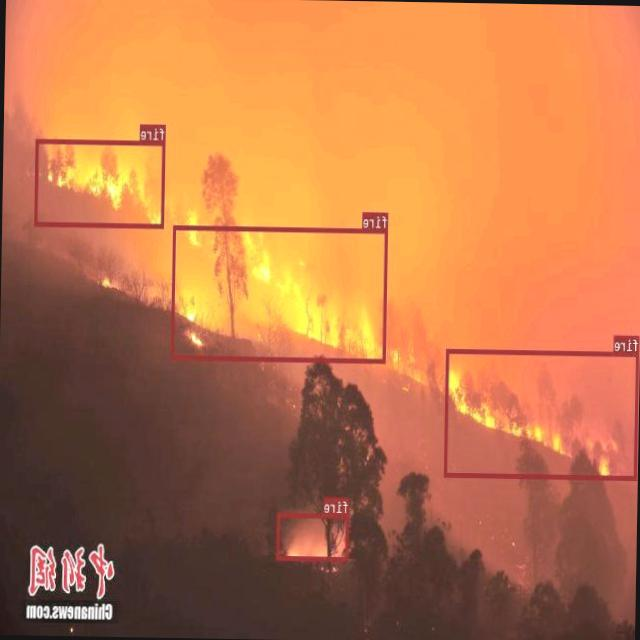fire: (172, 224, 388, 362), (444, 348, 639, 479), (34, 137, 166, 227), (276, 512, 349, 560)
